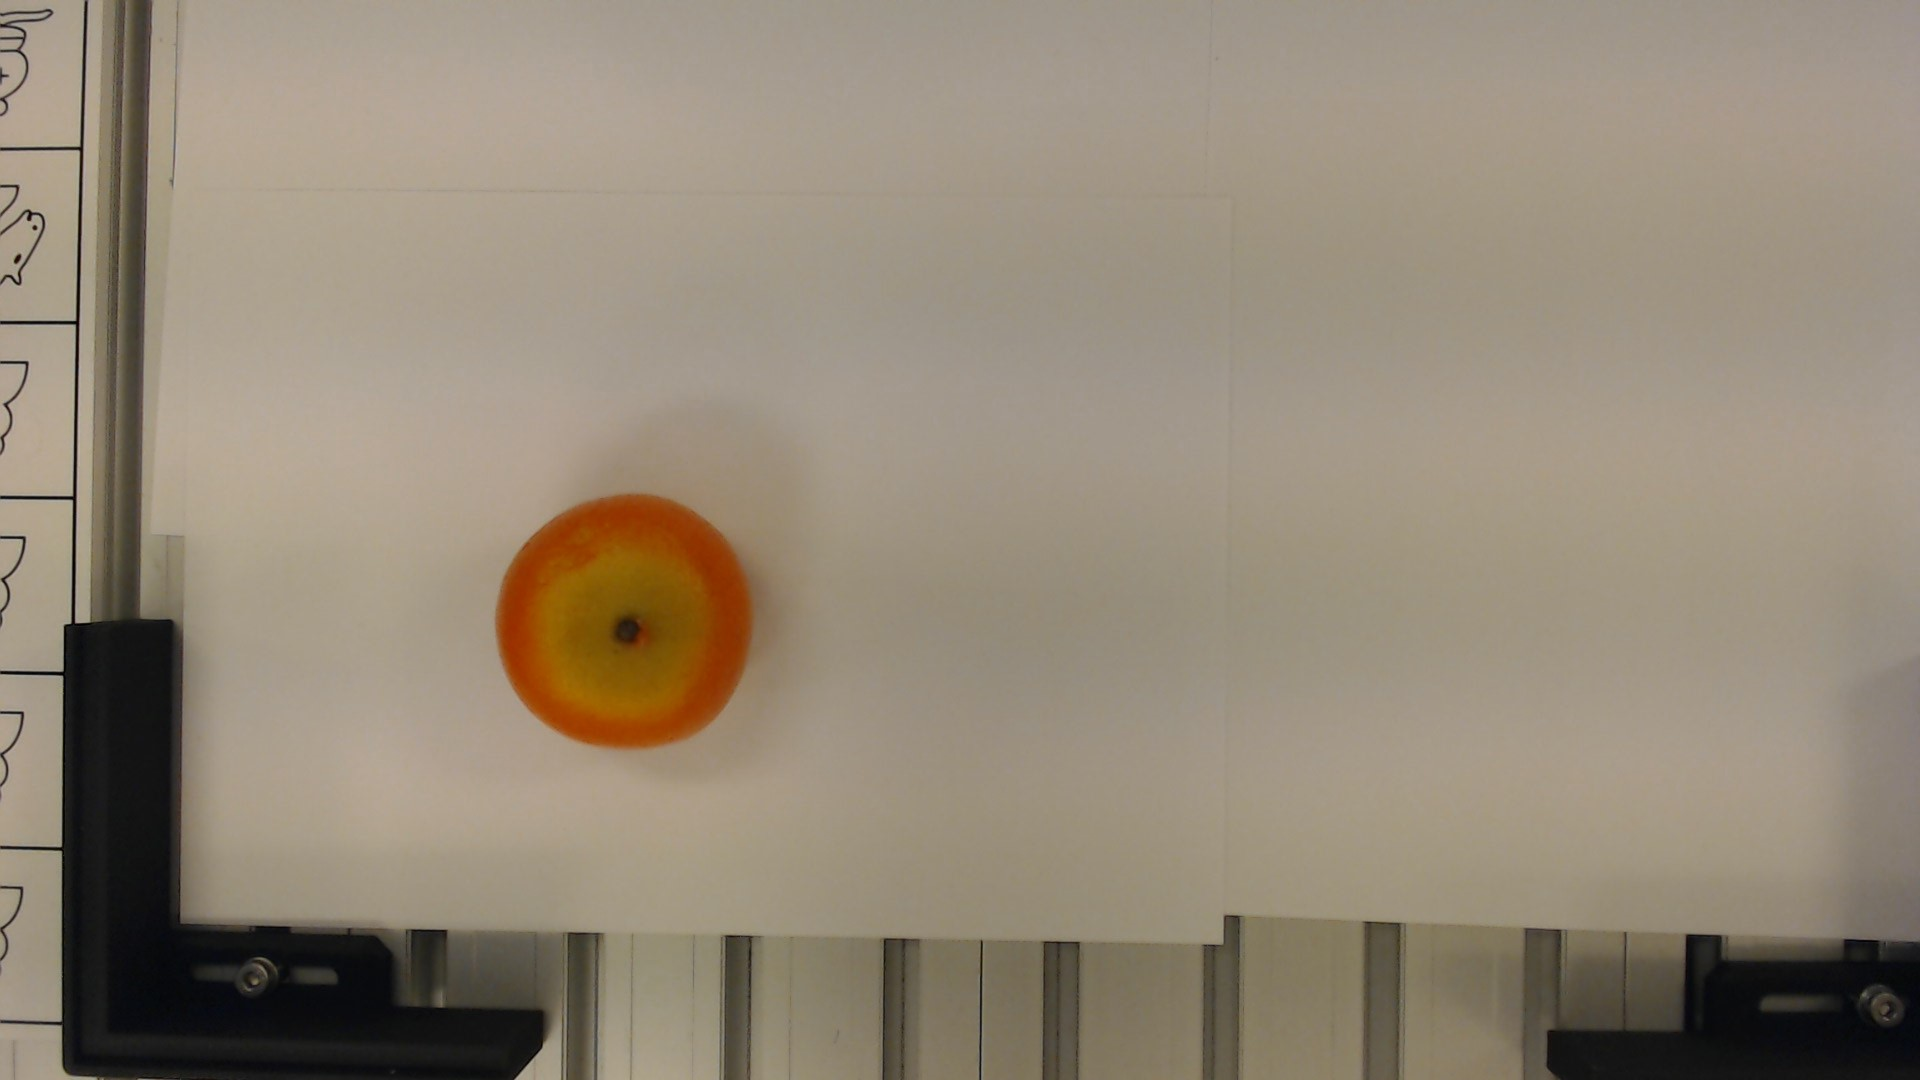Mandarin: (489, 495, 764, 746)
